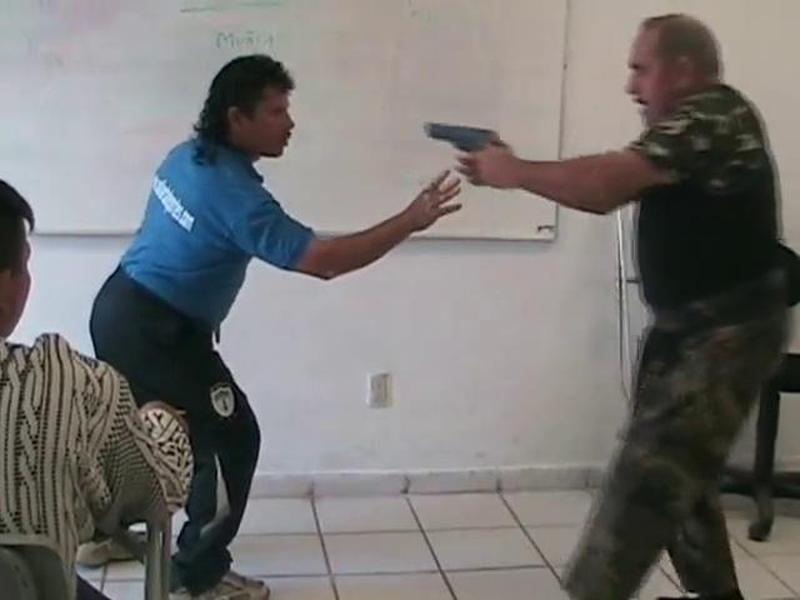Pistola: (409, 108, 509, 191)
